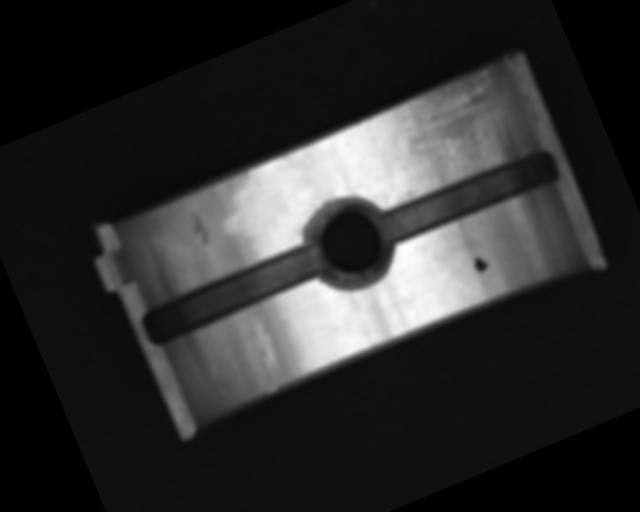blot: (470, 252, 492, 276)
bruise: (184, 207, 218, 250)
gap: (137, 237, 330, 351), (372, 143, 562, 251)
hole: (295, 185, 407, 300)
nick: (238, 312, 291, 394)
scratch: (381, 59, 537, 196)
